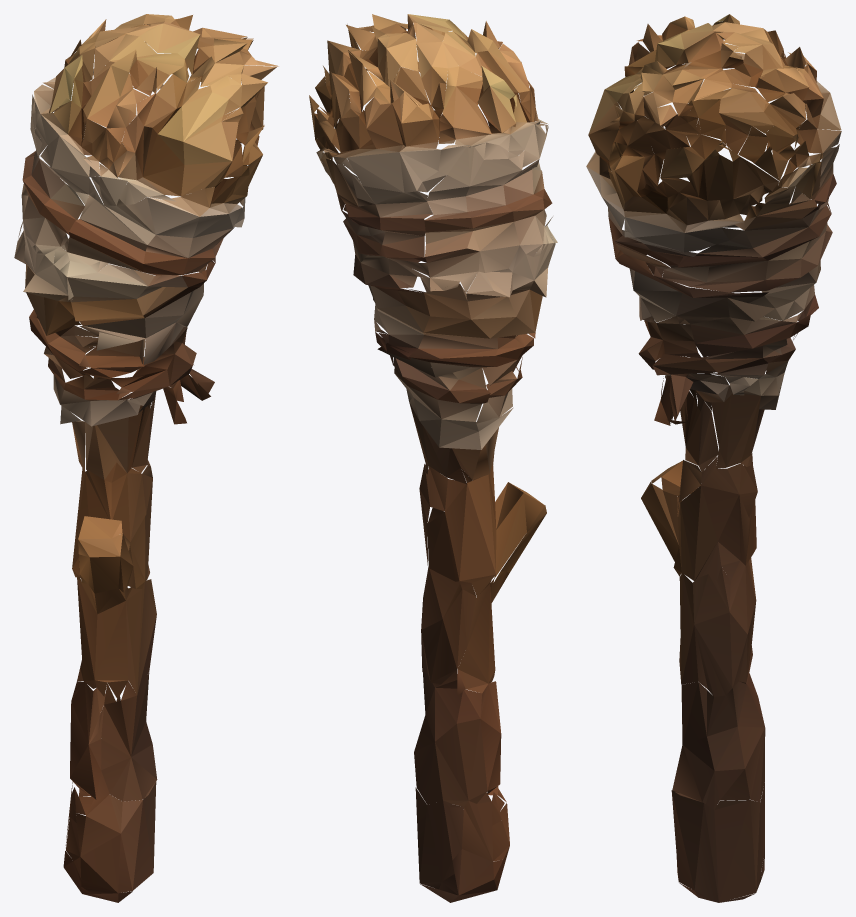
Rendered from torch.glb.
3 views of the same model, side by side, from view 1: azimuth 30°, elevation 25°; view 2: azimuth 150°, elevation 25°; view 3: azimuth 270°, elevation 25° (orthographic). The views are drawn at different scales.
Parts seen in each view (by area): view 1: 0_torch; view 2: 0_torch; view 3: 0_torch.
Boxes of the visible parts, <box> form: 0_torch: <box>14,14,278,902</box>; 0_torch: <box>309,14,557,902</box>; 0_torch: <box>586,14,841,902</box>.
Bounding box in the file's own units: 0.1732 × 0.6204 × 0.1608.
